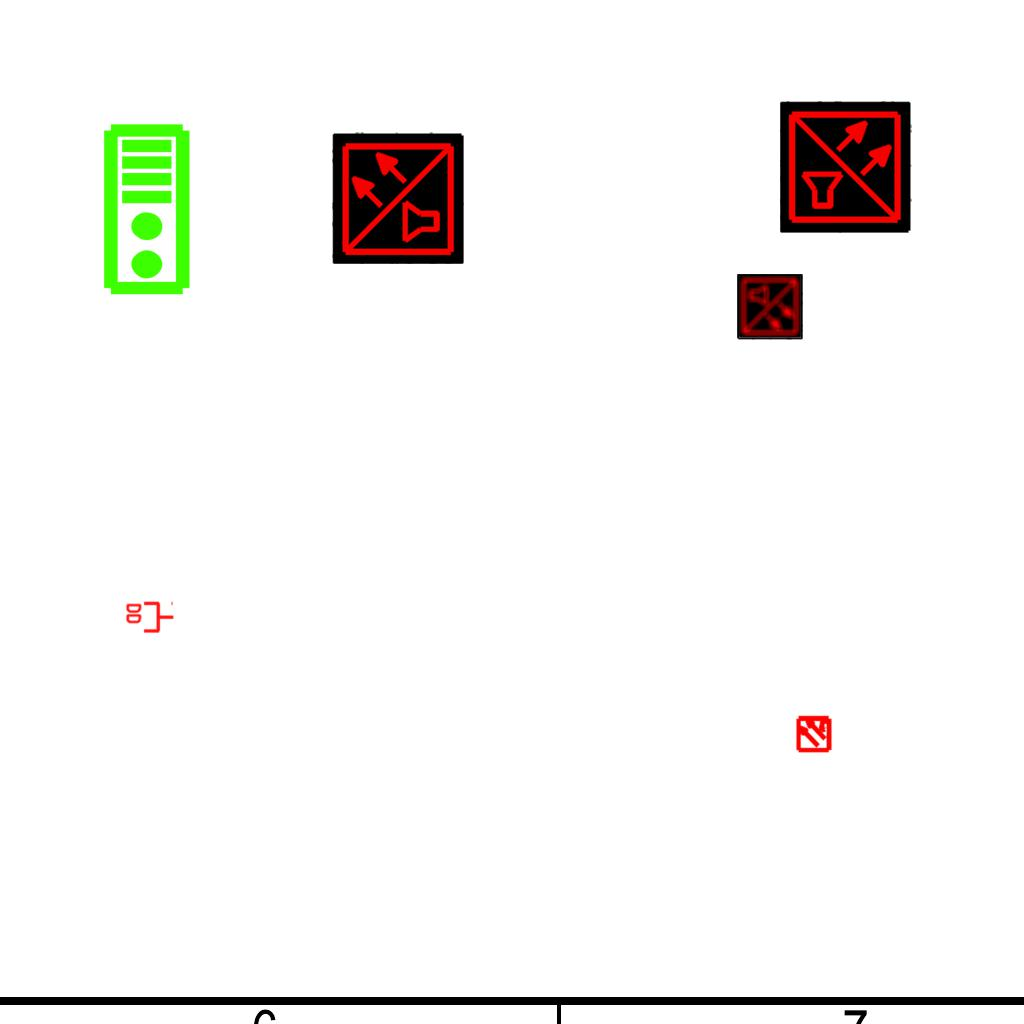Datenanschluss_zweifach: (124, 601, 175, 635)
Gegensprechanlage_mit_Video: (101, 122, 196, 298)
OKW_Multisensormelder_(Kombination_optischer_Rauch-Kahlenmonoxid_Waerme-Melder): (332, 132, 464, 264), (780, 101, 912, 233), (737, 274, 803, 340)
OT_Multisensormelder_(Kombination_RMO_WMD): (773, 86, 924, 237), (786, 705, 842, 761)
